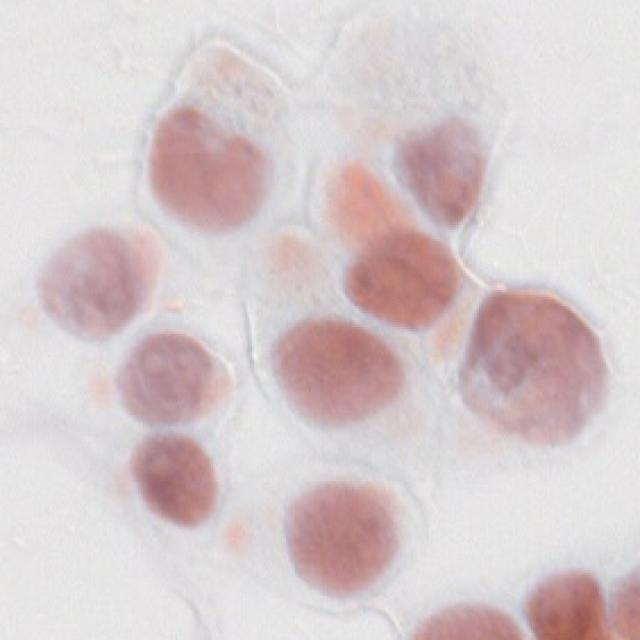cytoplasm: (185, 209, 494, 531), (101, 35, 346, 290), (204, 419, 443, 636), (110, 402, 254, 564)
nucleus: (246, 290, 416, 459), (120, 99, 285, 255), (258, 462, 417, 621), (114, 420, 236, 536)
